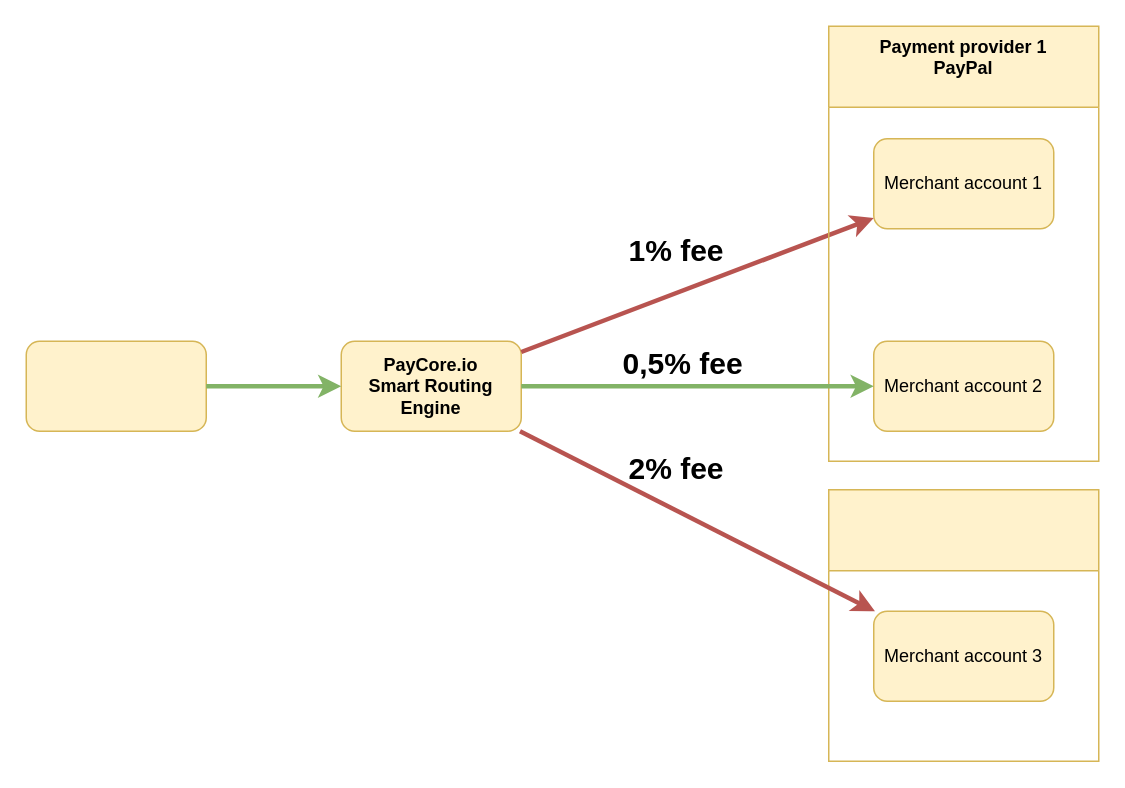
Some shapes in this 1125 by 788 pixel diagram are drawn without their labels. Here are the shapes that lost their labels. From the top down, the box of each, then its label:
(25, 340, 206, 431): Payment / Payout Request
(827, 488, 1099, 761): Payment provider 2 Stripe
